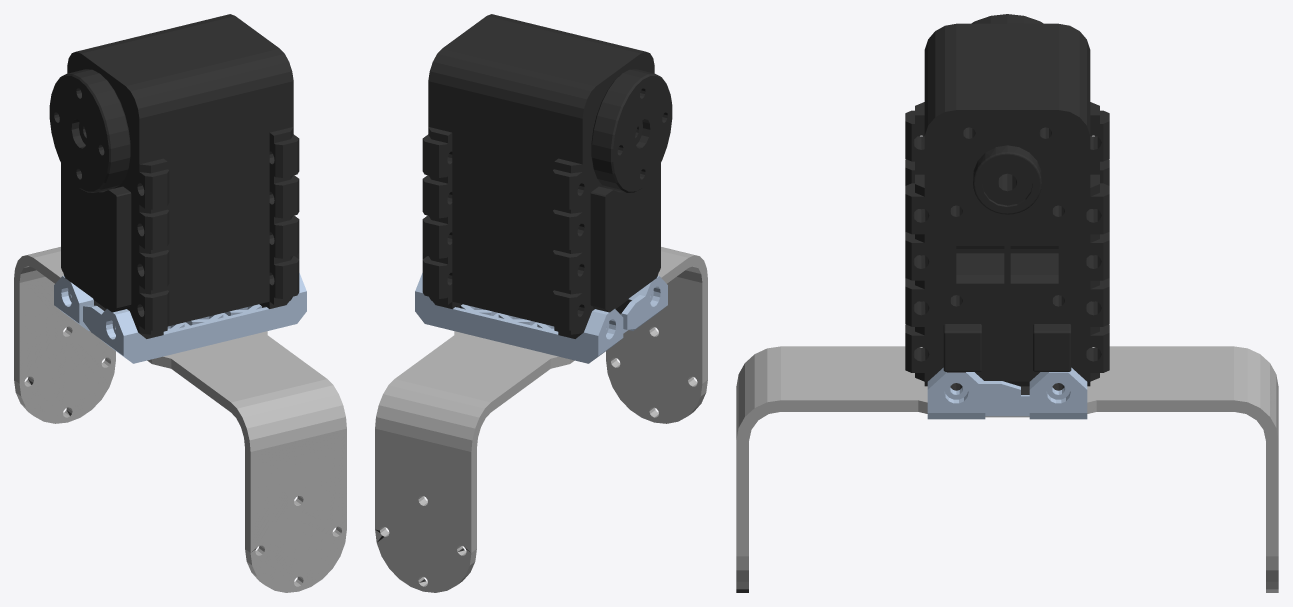
File: upper_arm.dae
3 renders of one model, left to right at view 1: azimuth 30°, elevation 25°; view 2: azimuth 150°, elevation 25°; view 3: azimuth 270°, elevation 25°, orthographic. The views are drawn at different scales.
Parts seen in each view (by area): view 1: upper_arm; view 2: upper_arm; view 3: upper_arm.
Part boxes in pixels (bbox=[...]): upper_arm: bbox=[14, 14, 346, 592]; upper_arm: bbox=[375, 14, 707, 592]; upper_arm: bbox=[736, 14, 1278, 592].
Bounding box in the file's own units: 0.04 × 0.085 × 0.09.
